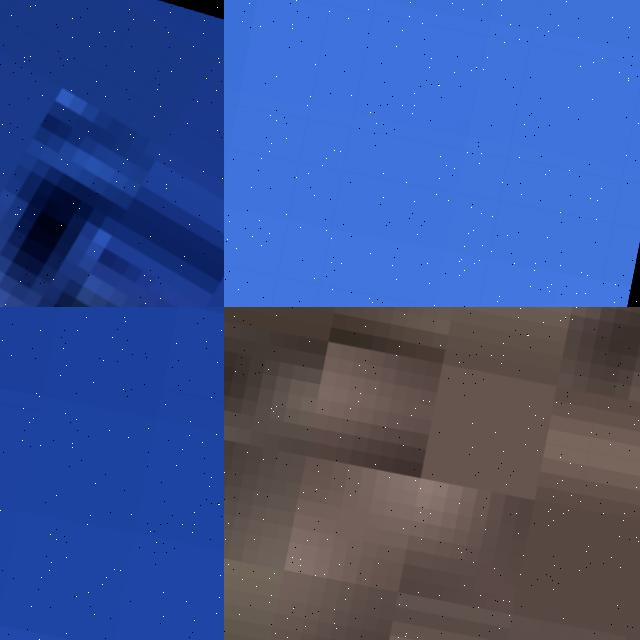drone: (0, 0, 224, 307)
